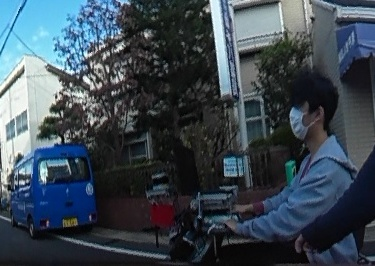person: (218, 68, 348, 266)
